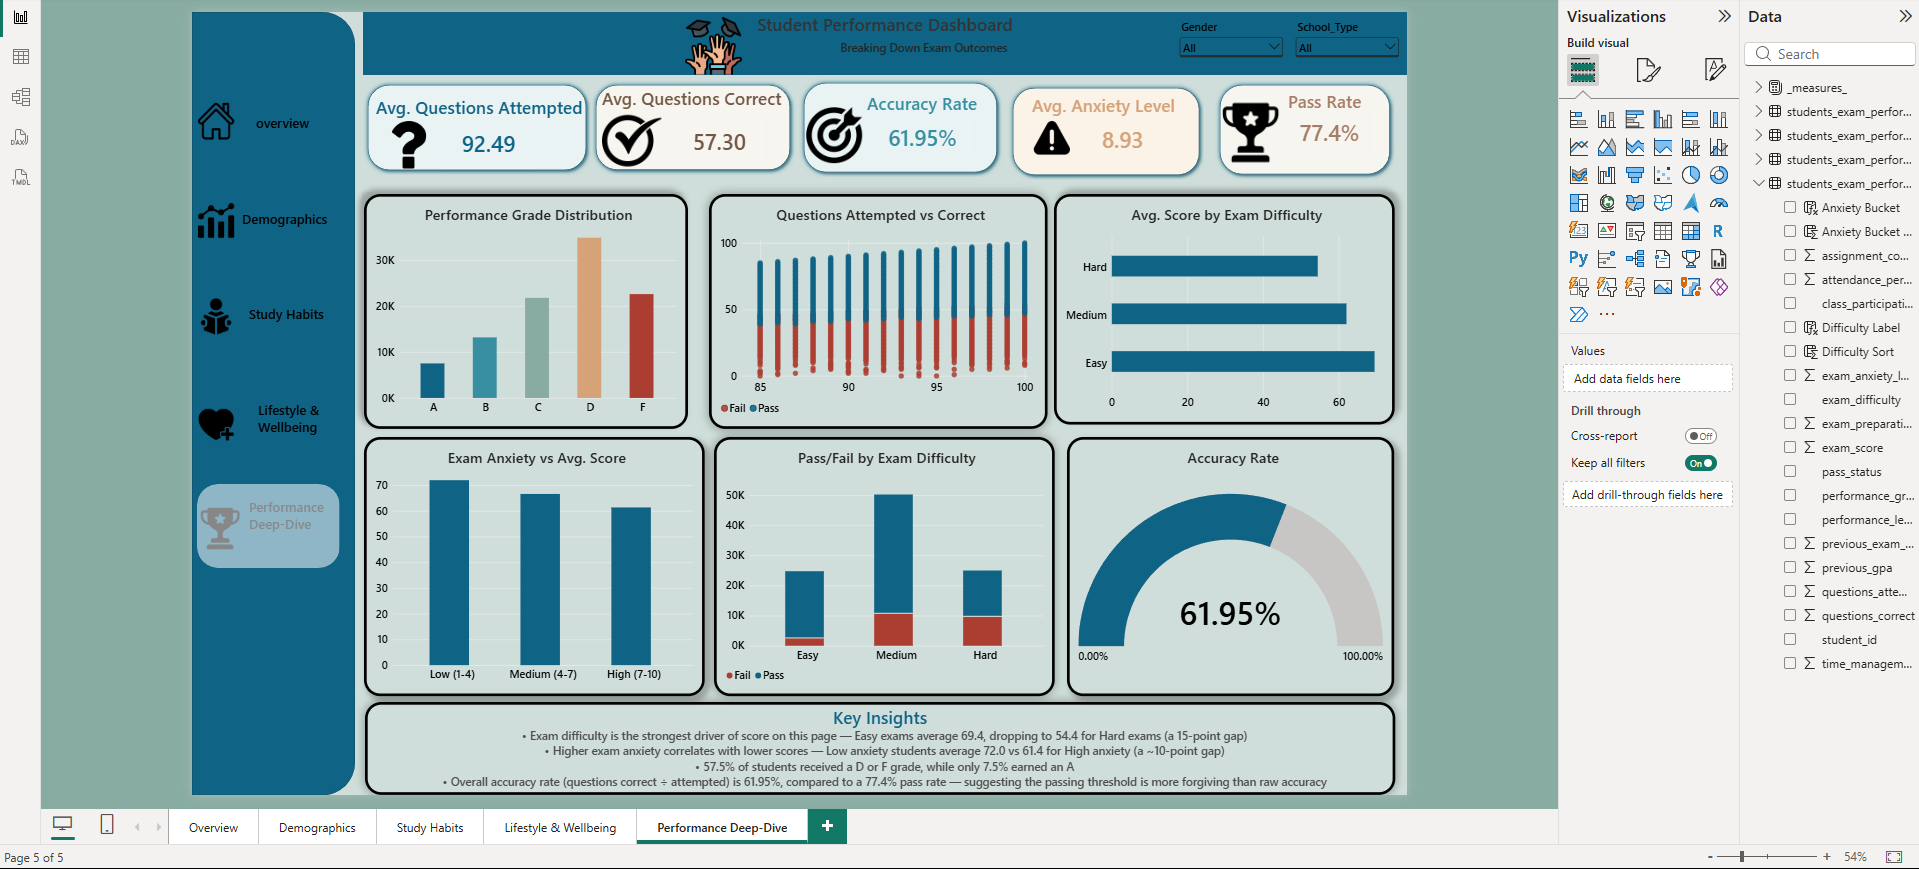

The dashboard page shown, as its layout file describes it:
{"tool":"powerbi","page":{"name":"Performance Deep-Dive","canvas":[2250,1450],"ordinal":4},"visuals":[{"type":"group","id":"g1","title":"Group 3","box":[0,0,301.7,1450],"z":0},{"type":"group","id":"g2","title":"Group 2","box":[0,0,301.7,1450],"z":0,"group":"g1"},{"type":"shape","box":[0,0,302,1450.4],"z":0,"group":"g2"},{"type":"group","id":"g3","title":"Group 5","box":[316.7,0,1933.3,116.7],"z":0,"group":"g10"},{"type":"image","box":[906.6,7,117.1,109.7],"z":0,"group":"g9"},{"type":"textbox","box":[1050.7,51.6,610.1,49.8],"z":0,"group":"g3"},{"type":"group","id":"g4","title":"Group 7","box":[1124.5,122.4,375.5,183.7],"z":0,"group":"g14"},{"type":"shape","box":[1124.5,122.4,375.5,183.7],"z":0,"group":"g4"},{"type":"shape","box":[316.7,125.9,422.2,175.9],"z":0,"group":"g5"},{"type":"group","id":"g5","title":"Group 7","box":[316.7,125.9,422.2,175.9],"z":0,"group":"g12"},{"type":"shape","box":[738.9,125.9,377.6,175.5],"z":0,"group":"g6"},{"type":"group","id":"g6","title":"Group 7","box":[738.9,125.9,377.6,175.5],"z":0,"group":"g13"},{"type":"group","id":"g7","title":"Group 7","box":[1893.9,126.5,332.7,183.7],"z":0,"group":"g16"},{"type":"shape","box":[1893.9,126.5,332.7,183.7],"z":0,"group":"g7"},{"type":"shape","box":[1510.2,130.6,363.3,179.5],"z":0,"group":"g8"},{"type":"group","id":"g8","title":"Group 7","box":[1510.2,130.6,363.3,175.5],"z":0,"group":"g15"},{"type":"textbox","box":[117.4,189.8,133.1,55.6],"z":0,"group":"g11"},{"type":"textbox","box":[1976.6,143.7,239.7,61.3],"z":12,"group":"g16"},{"type":"textbox","box":[316.7,0,1933.3,115.1],"z":1000,"group":"g9"},{"type":"group","id":"g9","title":"Group 4","box":[316.7,0,1933.3,116.7],"z":1000,"group":"g3"},{"type":"group","id":"g10","title":"Group 6","box":[316.7,0,1933.3,116.7],"z":1000},{"type":"slicer","fields":{"Values":["students_exam_performance dim_students.school_type"]},"box":[2039.7,13.7,201.1,95.8],"z":1000,"group":"g10"},{"type":"textbox","box":[760.2,137.1,332.6,48.9],"z":1000,"group":"g13"},{"type":"textbox","box":[1251,146.5,218.4,42.7],"z":1000,"group":"g14"},{"type":"textbox","box":[1554.7,149.8,308.2,42.9],"z":1000,"group":"g15"},{"type":"image","box":[1901.8,152.1,117.1,141],"z":1000,"group":"g7"},{"type":"textbox","box":[341.4,153.8,408.5,61.3],"z":1000,"group":"g12"},{"type":"shape","box":[9.8,156.5,264.3,144.3],"z":1000,"group":"g1"},{"type":"group","id":"g11","title":"Group 1","box":[10.7,159.3,264.7,852.2],"z":1000,"group":"g2"},{"type":"image","box":[10.7,159.3,67.3,86.1],"z":1000,"group":"g11"},{"type":"image","box":[1135.9,175.9,108.8,103.9],"z":1000,"group":"g4"},{"type":"image","box":[760.2,184,110.2,110.2],"z":1000,"group":"g6"},{"type":"image","box":[1537.4,199.9,107.4,66.5],"z":1000,"group":"g8"},{"type":"image","box":[350.8,201.2,103.4,88],"z":1000,"group":"g5"},{"type":"slicer","fields":{"Values":["students_exam_performance dim_students.gender"]},"box":[1824.2,13.7,201.1,95.8],"z":2000,"group":"g10"},{"type":"group","id":"g12","title":"Group 8","box":[316.7,125.9,433.2,175.9],"z":2000},{"type":"cardVisual","fields":{"Data":["_measures_.Pass Rate %"]},"box":[2021.2,184.6,168.5,78.6],"z":2000,"group":"g7"},{"type":"cardVisual","fields":{"Data":["_measures_.Average Questions Attempted"]},"box":[460.7,193.1,176.6,98.2],"z":2000,"group":"g5"},{"type":"cardVisual","fields":{"Data":["_measures_.Accuracy Rate %"]},"box":[1265.9,195.3,175.5,74.2],"z":2000,"group":"g4"},{"type":"cardVisual","fields":{"Data":["_measures_.Average Questions Correct"]},"box":[898.7,198.4,157.2,82.4],"z":2000,"group":"g6"},{"type":"cardVisual","fields":{"Data":["_measures_.Average Anxiety Level"]},"box":[1668.2,203.3,110.6,62.5],"z":2000,"group":"g8"},{"type":"textbox","box":[92.6,367.4,182.8,53.8],"z":2000,"group":"g11"},{"type":"shape","box":[7.6,506.5,266.1,120.5],"z":2000,"group":"g1"},{"type":"group","id":"g13","title":"Group 8","box":[738.9,125.9,377.8,175.9],"z":3000},{"type":"image","box":[10.7,349.5,67.3,71.8],"z":3000,"group":"g11"},{"type":"shape","box":[6.9,699.7,268,126.1],"z":3000,"group":"g1"},{"type":"group","id":"g14","title":"Group 8","box":[1124.5,122.4,375.5,183.7],"z":4000},{"type":"image","box":[10.7,509.1,67.3,109.4],"z":4000,"group":"g11"},{"type":"shape","box":[8.9,873.3,264.4,155.6],"z":4000,"group":"g1"},{"type":"group","id":"g15","title":"Group 8","box":[1510.2,130.6,363.3,175.5],"z":5000},{"type":"textbox","box":[105.7,543.2,157.9,41.3],"z":5000,"group":"g11"},{"type":"group","id":"g16","title":"Group 9","box":[1893.9,126.5,332.7,183.7],"z":6000},{"type":"textbox","box":[121.8,720.9,124.3,100.5],"z":6000,"group":"g11"},{"type":"columnChart","title":"Performance Grade Distribution","fields":{"Category":["students_exam_performance fact_exam_performance.performance_grade"],"Y":["CountNonNull(students_exam_performance fact_exam_performance.student_id)"]},"box":[318.4,336.7,600,434.7],"z":7000},{"type":"image","box":[10.7,704.7,67.3,116.6],"z":7000,"group":"g11"},{"type":"scatterChart","title":"Questions Attempted vs Correct","fields":{"Series":["students_exam_performance fact_exam_performance.pass_status"],"X":["students_exam_performance fact_exam_performance.questions_attempted"],"Y":["students_exam_performance fact_exam_performance.questions_correct"]},"box":[957.1,336.7,626.5,434.7],"z":8000},{"type":"textbox","box":[105.7,900.3,157.9,111.2],"z":8000,"group":"g11"},{"type":"barChart","title":"Avg. Score by Exam Difficulty","fields":{"Category":["students_exam_performance fact_exam_performance.Difficulty Label"],"Y":["_measures_.Average Exam Score"]},"box":[1595.9,336.7,630.6,426.5],"z":9000},{"type":"image","box":[10.7,900.3,81.9,111.2],"z":9000,"group":"g11"},{"type":"columnChart","title":"Exam Anxiety vs Avg. Score","fields":{"Category":["students_exam_performance fact_exam_performance.Anxiety Bucket"],"Y":["_measures_.Average Exam Score"]},"box":[318.4,787.8,630.6,479.6],"z":10000},{"type":"columnChart","title":"Pass/Fail by Exam Difficulty","fields":{"Category":["students_exam_performance fact_exam_performance.Difficulty Label"],"Series":["students_exam_performance fact_exam_performance.pass_status"],"Y":["CountNonNull(students_exam_performance fact_exam_performance.pass_status)"]},"box":[967.3,787.8,630.6,479.6],"z":11000},{"type":"gauge","title":"Accuracy Rate","fields":{"Y":["_measures_.Accuracy Rate %"]},"box":[1620.4,787.8,606.1,479.6],"z":12000},{"type":"textbox","box":[320.4,1277.8,1907.5,171.7],"z":13000},{"type":"shape","box":[11.1,337,264.8,103.7],"z":13001}]}

Visuals, with their boxes on the page's 2250x1450 design canvas (x1, y1, x2, y2). These are canvas units, not pixel positions in the 1919x869 screenshot, which may show the page scaled, cropped or inside an application window:
"Group 3" group: locate(0, 0, 302, 1450)
"Group 2" group: locate(0, 0, 302, 1450)
shape: locate(0, 0, 302, 1450)
"Group 5" group: locate(317, 0, 2250, 117)
image: locate(907, 7, 1024, 117)
textbox: locate(1051, 52, 1661, 101)
"Group 7" group: locate(1124, 122, 1500, 306)
shape: locate(1124, 122, 1500, 306)
shape: locate(317, 126, 739, 302)
"Group 7" group: locate(317, 126, 739, 302)
shape: locate(739, 126, 1116, 301)
"Group 7" group: locate(739, 126, 1116, 301)
"Group 7" group: locate(1894, 126, 2227, 310)
shape: locate(1894, 126, 2227, 310)
shape: locate(1510, 131, 1874, 310)
"Group 7" group: locate(1510, 131, 1874, 306)
textbox: locate(117, 190, 250, 245)
textbox: locate(1977, 144, 2216, 205)
textbox: locate(317, 0, 2250, 115)
"Group 4" group: locate(317, 0, 2250, 117)
"Group 6" group: locate(317, 0, 2250, 117)
slicer - students_exam_performance dim_students.school_type: locate(2040, 14, 2241, 110)
textbox: locate(760, 137, 1093, 186)
textbox: locate(1251, 146, 1469, 189)
textbox: locate(1555, 150, 1863, 193)
image: locate(1902, 152, 2019, 293)
textbox: locate(341, 154, 750, 215)
shape: locate(10, 156, 274, 301)
"Group 1" group: locate(11, 159, 275, 1012)
image: locate(11, 159, 78, 245)
image: locate(1136, 176, 1245, 280)
image: locate(760, 184, 870, 294)
image: locate(1537, 200, 1645, 266)
image: locate(351, 201, 454, 289)
slicer - students_exam_performance dim_students.gender: locate(1824, 14, 2025, 110)
"Group 8" group: locate(317, 126, 750, 302)
cardVisual - _measures_.Pass Rate %: locate(2021, 185, 2190, 263)
cardVisual - _measures_.Average Questions Attempted: locate(461, 193, 637, 291)
cardVisual - _measures_.Accuracy Rate %: locate(1266, 195, 1441, 270)
cardVisual - _measures_.Average Questions Correct: locate(899, 198, 1056, 281)
cardVisual - _measures_.Average Anxiety Level: locate(1668, 203, 1779, 266)
textbox: locate(93, 367, 275, 421)
shape: locate(8, 506, 274, 627)
"Group 8" group: locate(739, 126, 1117, 302)
image: locate(11, 350, 78, 421)
shape: locate(7, 700, 275, 826)
"Group 8" group: locate(1124, 122, 1500, 306)
image: locate(11, 509, 78, 618)
shape: locate(9, 873, 273, 1029)
"Group 8" group: locate(1510, 131, 1874, 306)
textbox: locate(106, 543, 264, 584)
"Group 9" group: locate(1894, 126, 2227, 310)
textbox: locate(122, 721, 246, 821)
"Performance Grade Distribution" columnChart: locate(318, 337, 918, 771)
image: locate(11, 705, 78, 821)
"Questions Attempted vs Correct" scatterChart: locate(957, 337, 1584, 771)
textbox: locate(106, 900, 264, 1012)
"Avg. Score by Exam Difficulty" barChart: locate(1596, 337, 2226, 763)
image: locate(11, 900, 93, 1012)
"Exam Anxiety vs Avg. Score" columnChart: locate(318, 788, 949, 1267)
"Pass/Fail by Exam Difficulty" columnChart: locate(967, 788, 1598, 1267)
"Accuracy Rate" gauge: locate(1620, 788, 2226, 1267)
textbox: locate(320, 1278, 2228, 1450)
shape: locate(11, 337, 276, 441)
